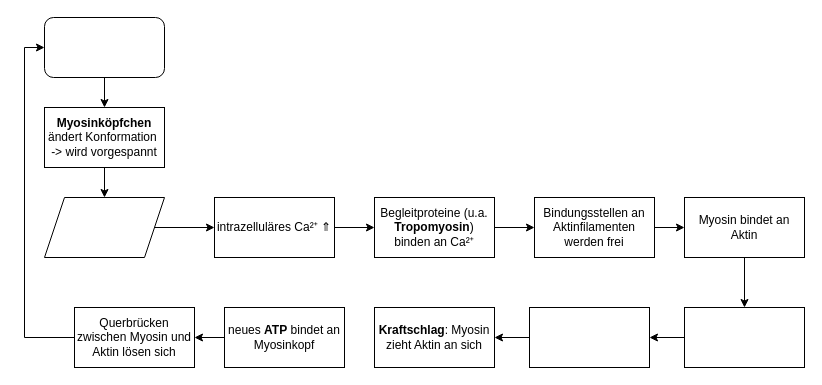
This 822x385 diagram has some shape labels left out. The centre of each missing label's shape, as x and y in pixels:
Myosin-ATPase spaltet ATP zu ADP+P: point 104,47
Myosinkopf gibt ADP und P ab: point 744,337
Myosinkopf knickt um 45 °: point 589,337
Zelle wird erregt: point 104,227
